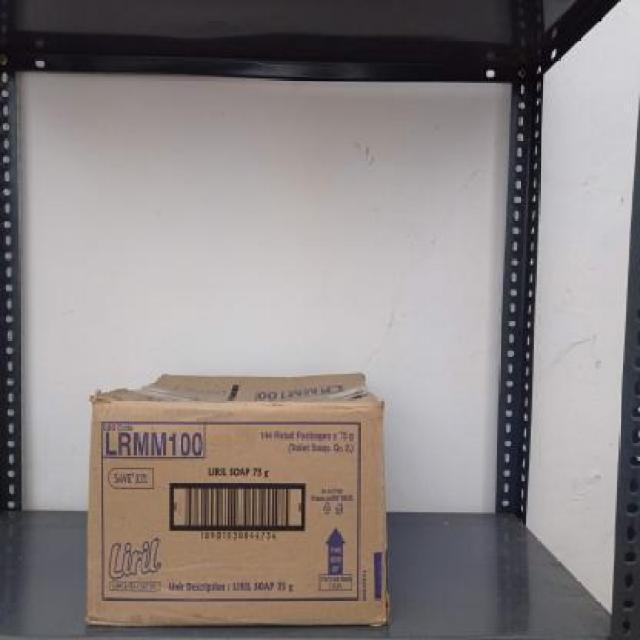box: (89, 399, 386, 624)
